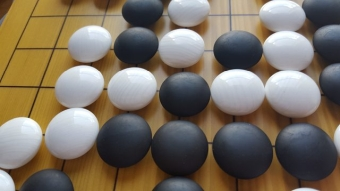black: (210, 118, 275, 182), (273, 120, 338, 184), (97, 111, 153, 171), (158, 70, 211, 119), (113, 26, 159, 66)
crossing: (22, 8, 40, 23), (223, 8, 241, 22), (8, 43, 25, 56), (34, 81, 48, 95), (59, 11, 74, 22), (49, 42, 61, 55)
white: (44, 108, 100, 161), (210, 68, 265, 117), (53, 64, 106, 108), (261, 30, 315, 71), (66, 24, 113, 65)
